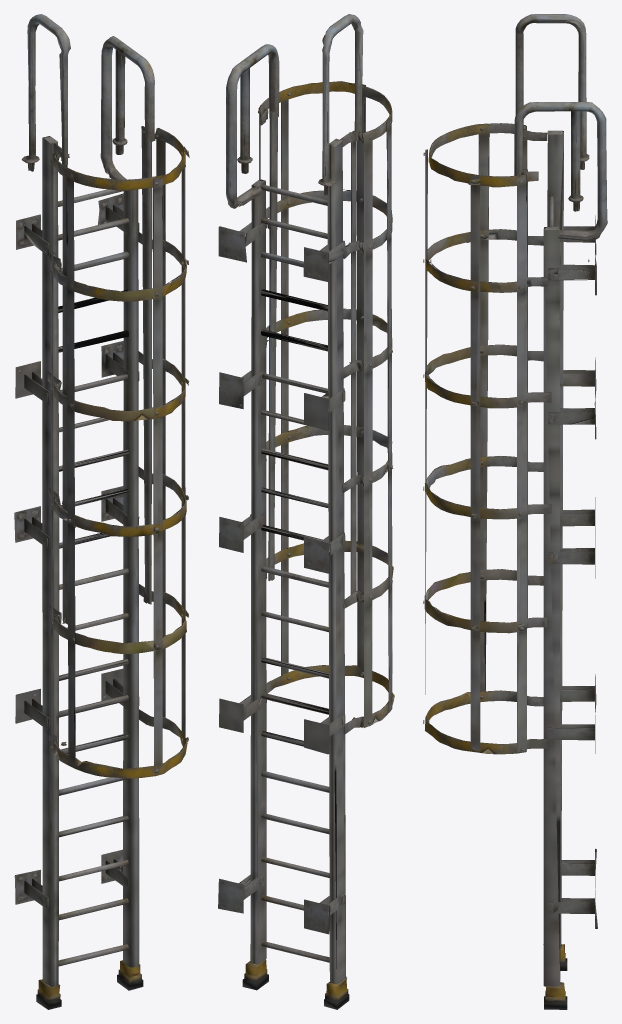
File: ladder.glb
The picture shows the model from 3 angles, left to right: view 1: azimuth 30°, elevation 25°; view 2: azimuth 150°, elevation 25°; view 3: azimuth 270°, elevation 25°; orthographic projection. The views are drawn at different scales.
Parts seen in each view (by area): view 1: ladder; view 2: ladder; view 3: ladder.
Boxes of the visible parts, x1,y1,x2,y2 form: ladder: [14, 14, 189, 1009]; ladder: [218, 14, 394, 1009]; ladder: [423, 14, 607, 1009].
Size of the model in its own units: 0.8004 by 6.5 by 1.14.
Materials: 1 (1 with a texture image).
